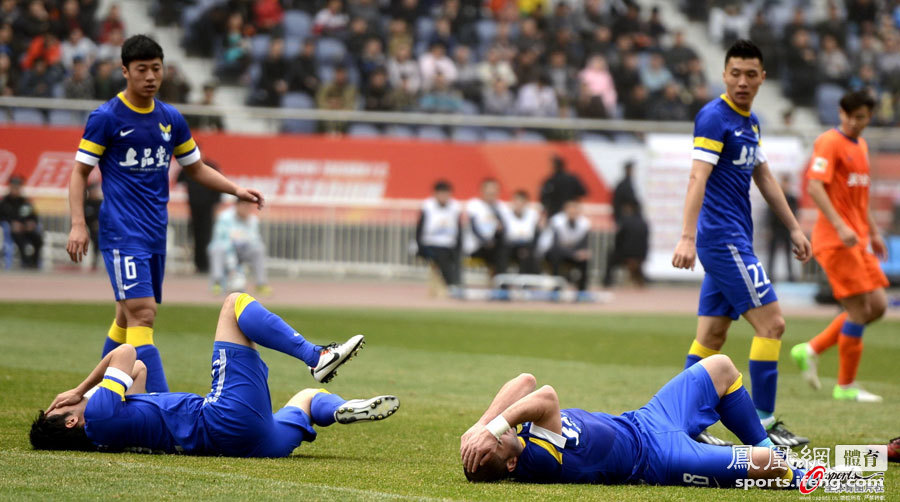10+: (1, 1, 900, 486)
down: (34, 288, 409, 451), (450, 348, 888, 485)
